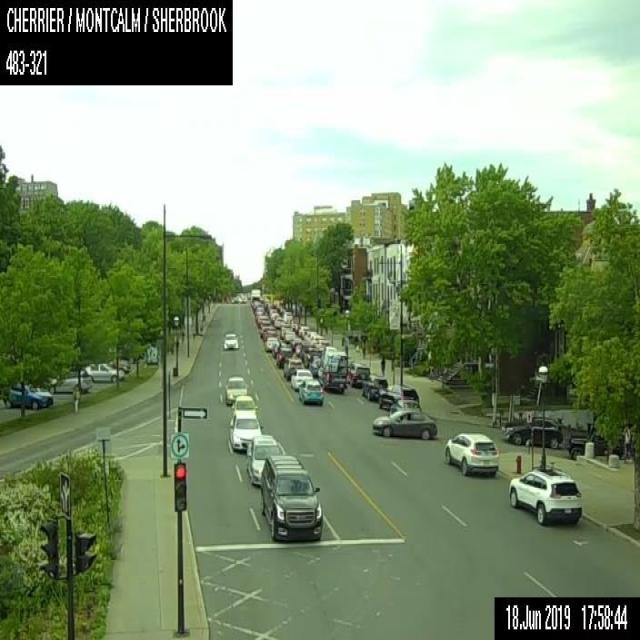pedestrian: (622, 423, 632, 463), (380, 353, 385, 376), (343, 336, 348, 356)
vehicle: (260, 454, 324, 540), (508, 466, 582, 524), (444, 431, 498, 474), (371, 408, 437, 439), (501, 416, 564, 447), (246, 433, 280, 485), (566, 422, 610, 458), (2, 380, 52, 409), (229, 408, 262, 450), (317, 347, 347, 393), (46, 368, 93, 393), (378, 383, 418, 412), (81, 362, 124, 382), (224, 374, 248, 405), (361, 372, 387, 400), (298, 378, 322, 404), (347, 361, 369, 387), (230, 394, 257, 415), (290, 368, 312, 390), (283, 356, 302, 379), (275, 346, 291, 367), (108, 357, 130, 372), (260, 325, 276, 341), (223, 332, 238, 349), (308, 354, 319, 376), (271, 339, 284, 357), (264, 336, 277, 350), (250, 287, 260, 304), (272, 315, 283, 327), (283, 329, 293, 342), (316, 339, 328, 349), (280, 325, 289, 338), (283, 310, 292, 322), (298, 325, 308, 335), (268, 308, 276, 318), (270, 311, 277, 320), (240, 296, 246, 302), (259, 325, 262, 337)
